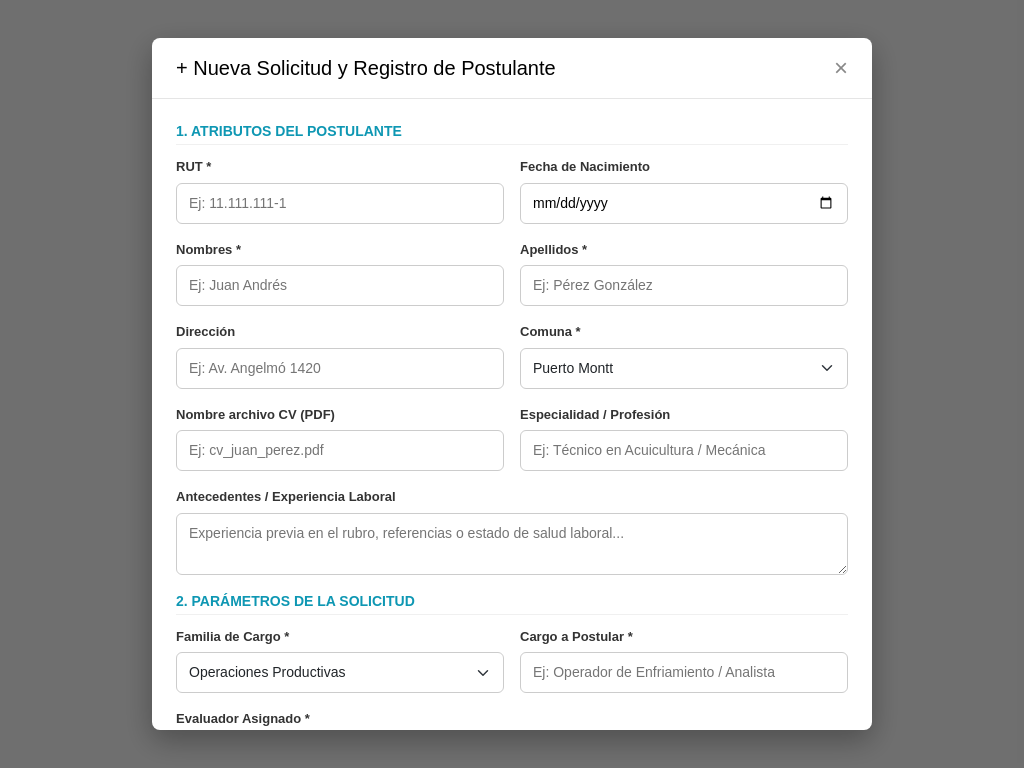
it: Componente: ModalNuevaSolicitud (Validación de Formulario) › debe bloquear el envío y mostrar alerta cuando el RUT tiene dígito verificador inválido
Type "11.111.111-9" into the field labelled "RUT *" at point(340, 203), box x1=176 y1=183 x2=504 y2=224
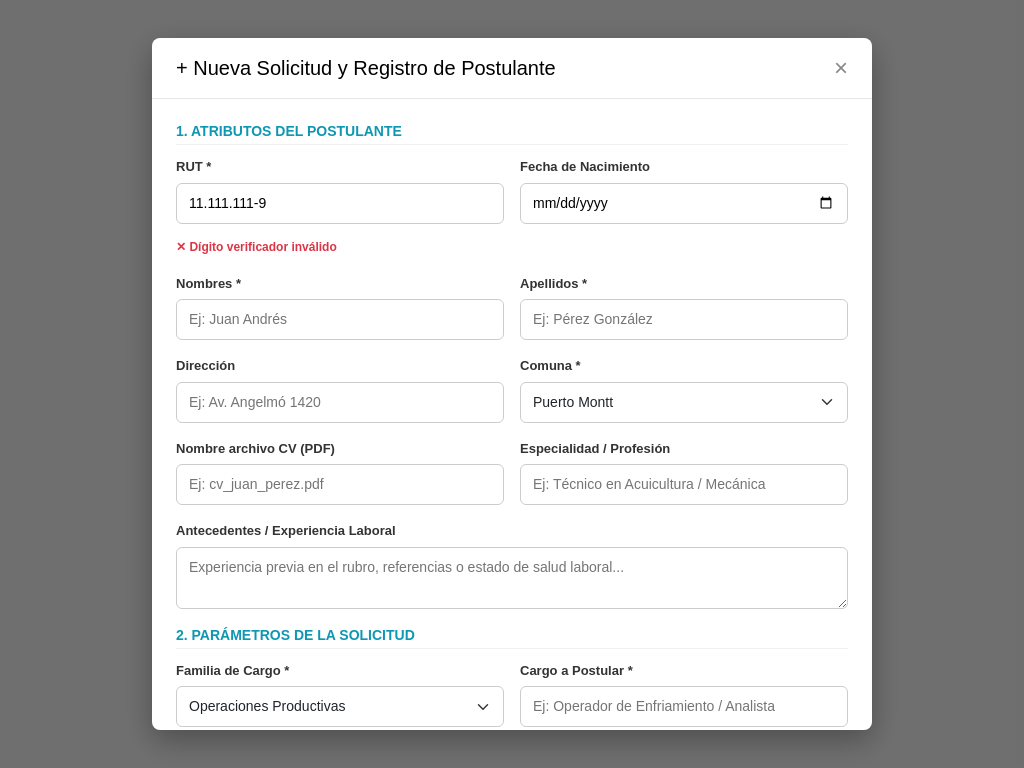
Type "Juan" into the field labelled "Nombres *" at point(340, 320), box x1=176 y1=299 x2=504 y2=340
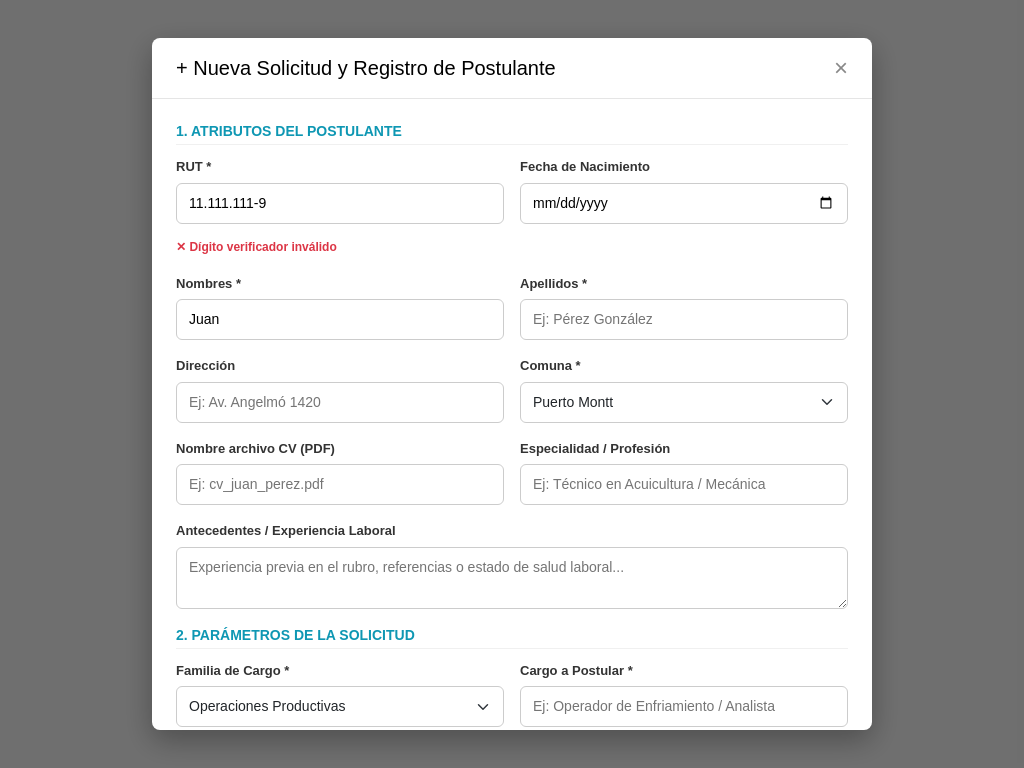
Type "Pérez" into the field labelled "Apellidos *" at point(684, 320), box x1=520 y1=299 x2=848 y2=340
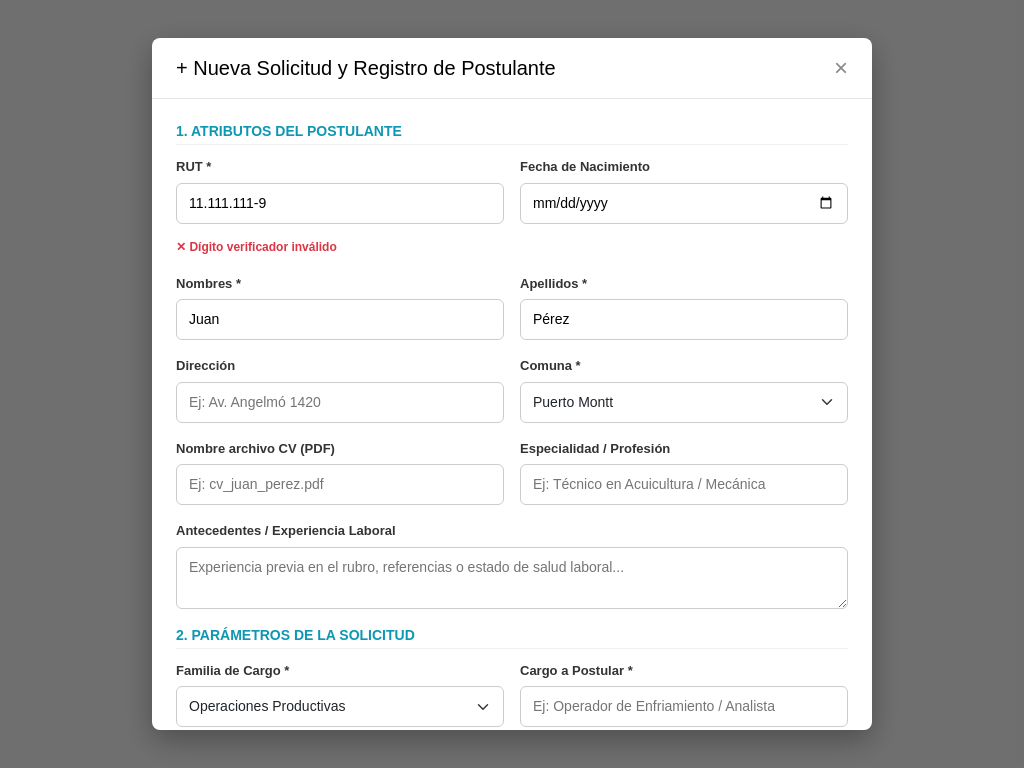
Type "Operario" into the field labelled "Cargo a Postular *" at point(684, 706), box x1=520 y1=686 x2=848 y2=727
(page scrolled)
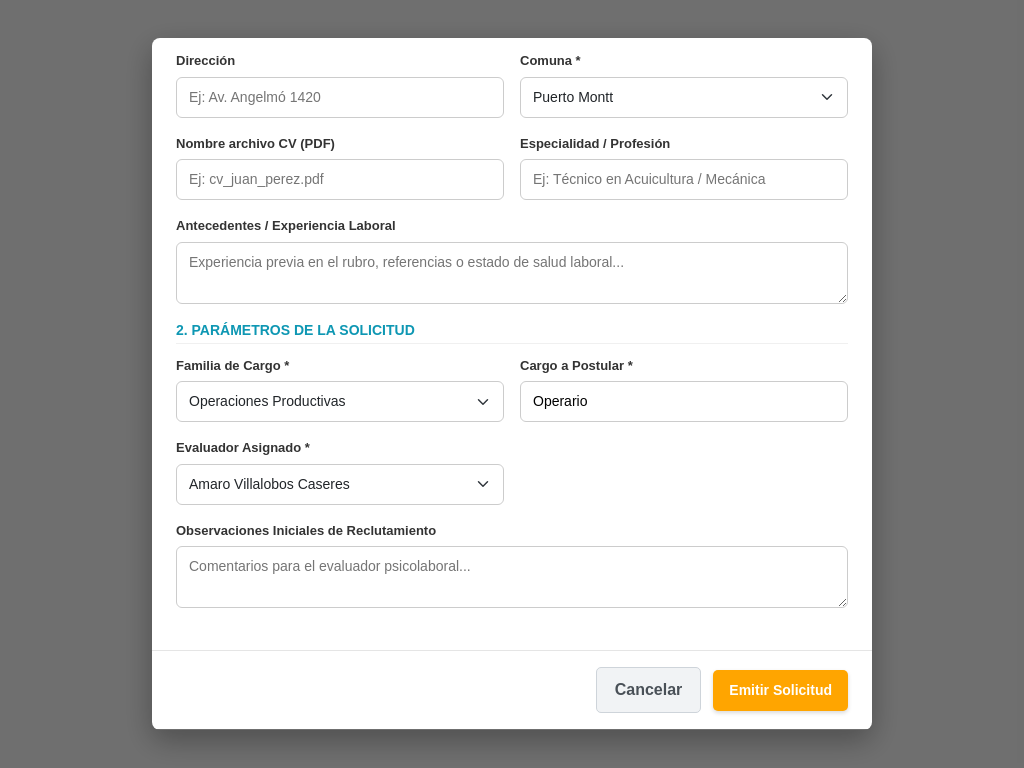
Click the button "Emitir Solicitud" at point(781, 690), box x1=713 y1=670 x2=848 y2=710
(page scrolled)
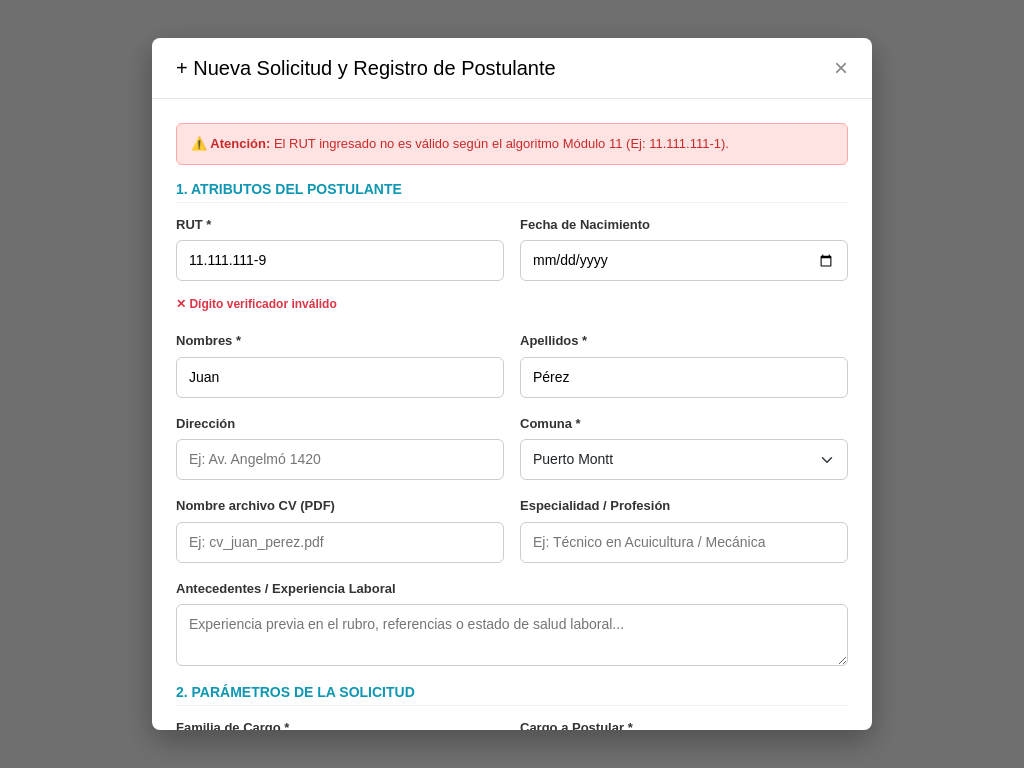
Expected: the message shows "Módulo 11", x1=274 y1=136 x2=729 y2=151
